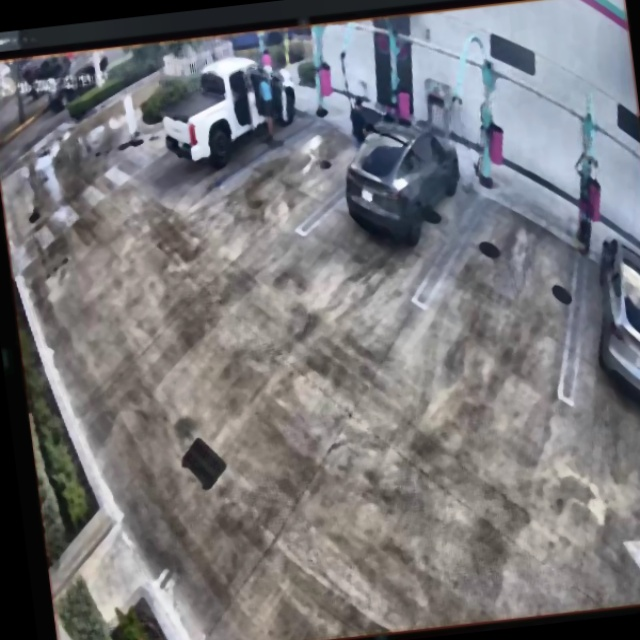Car: (336, 113, 469, 252), (157, 52, 302, 170)
